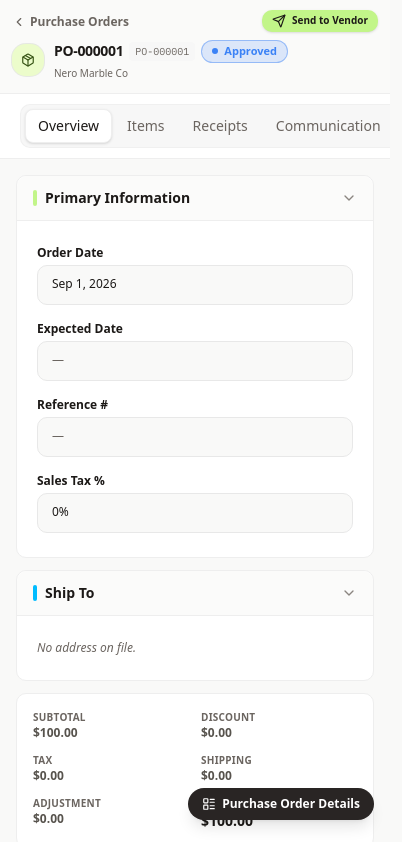
PurchaseOrderDetailPage — header actions and the admin-only status dropdown › surfaces a refusal from the backend even though a non-admin has no Actions card to show it in
This screenshot has width=402, height=842.
Click the button "Send to Vendor" at coordinates (320, 21), box left=262, top=10, right=378, bottom=32
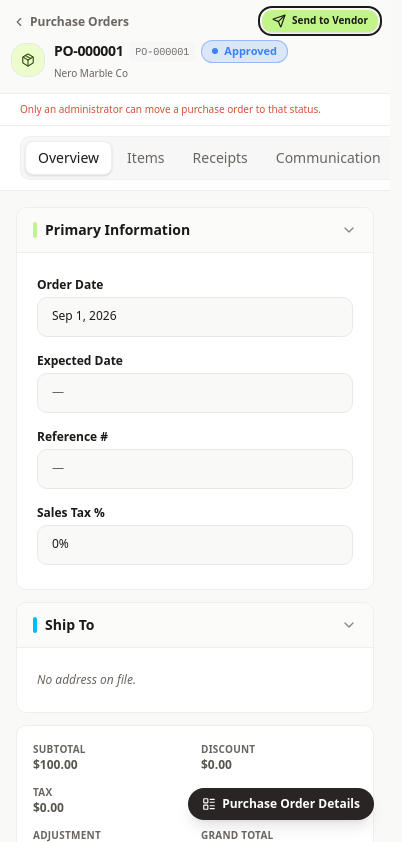
Now the message reads "Only an administrator can move a purchase order to that status.", box left=20, top=102, right=321, bottom=116
